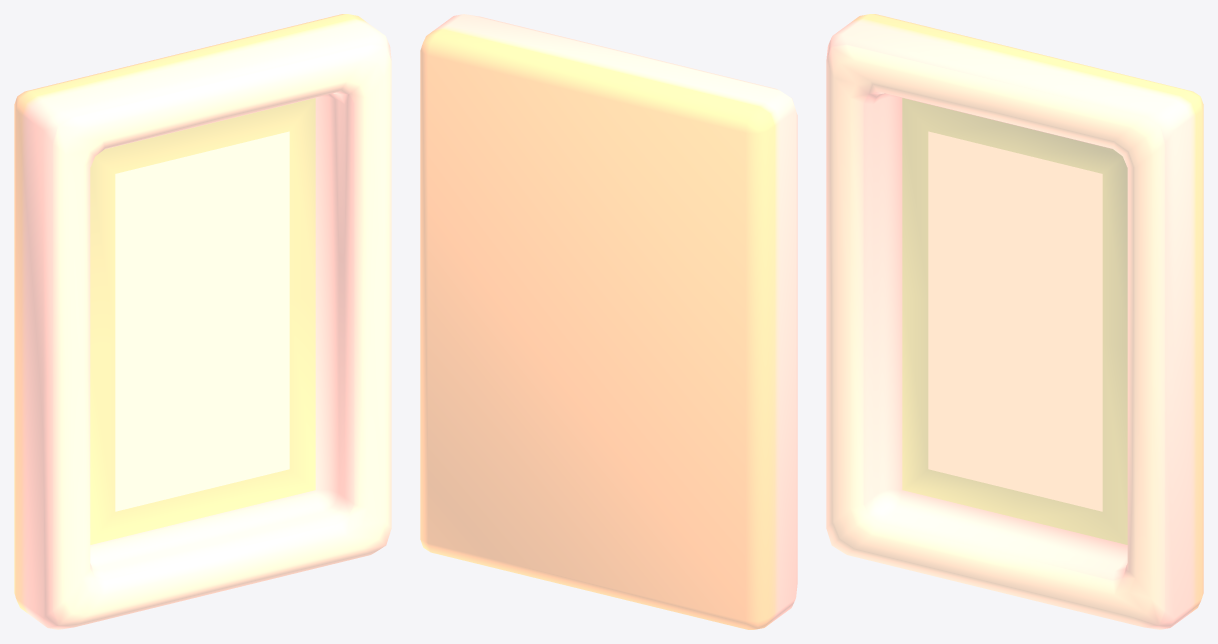
Rendered from frame3.gltf.
The picture shows the model from 3 angles, left to right: view 1: azimuth 30°, elevation 25°; view 2: azimuth 150°, elevation 25°; view 3: azimuth 330°, elevation 25°; orthographic projection.
Parts seen in each view (by area): view 1: frame3; view 2: frame3; view 3: frame3.
Part boxes in pixels (bbox=[...]): frame3: bbox=[14, 14, 391, 629]; frame3: bbox=[420, 14, 797, 629]; frame3: bbox=[826, 14, 1203, 629].
Size of the model in its own units: 0.274 by 0.3914 by 0.0608.
Materials: 1 (1 with a texture image).
